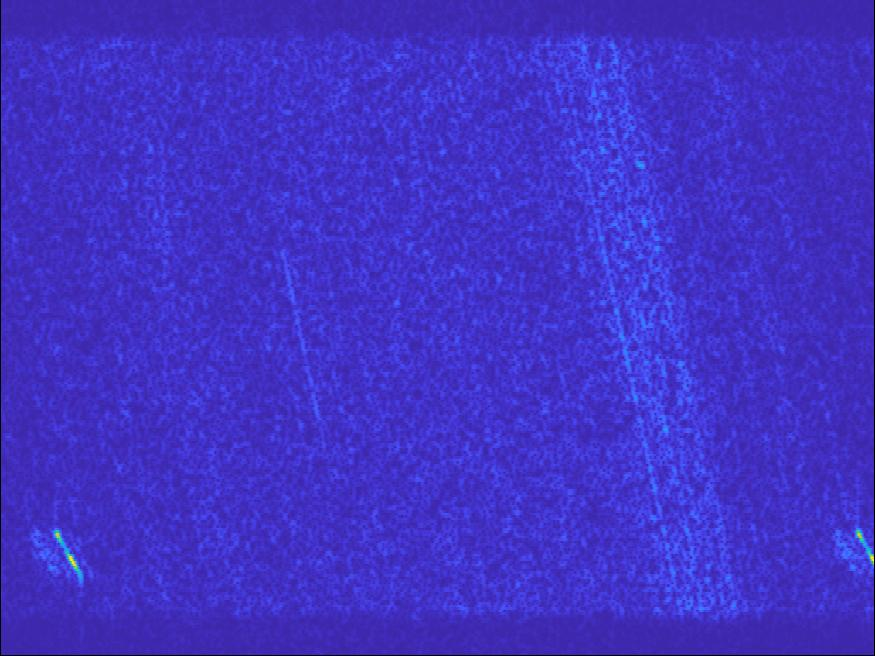Interference: (95, 379, 215, 418), (486, 303, 554, 347)
